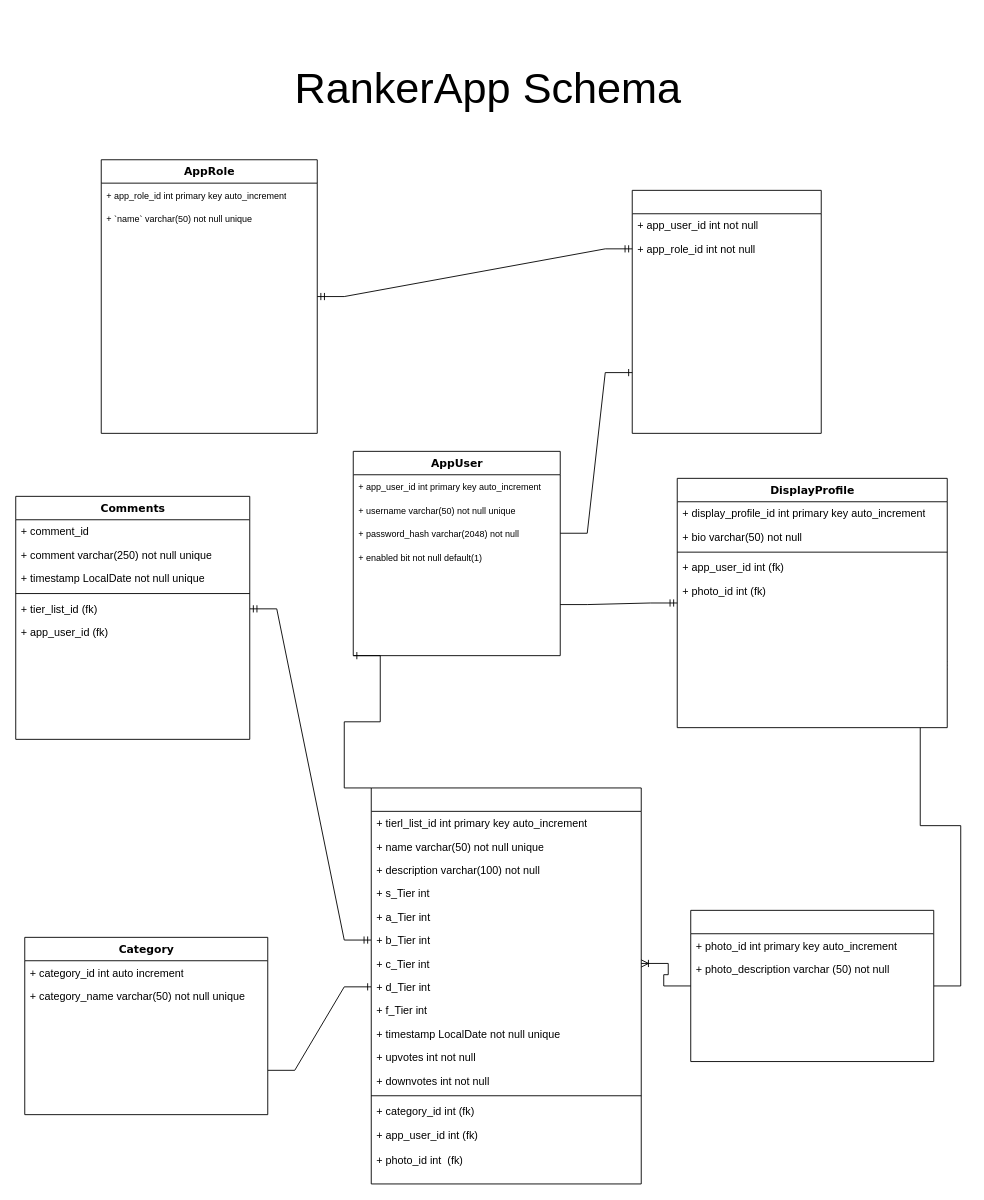
The diagram is 984 pixels wide and 1200 high, and some of its shapes have lost their labels. The box of each missing label's shape, as (x1, y1, x2, y2) in pixels:
AppUserRole: (631, 189, 821, 433)
PhotoTable: (690, 909, 934, 1062)
TierList: (370, 787, 641, 1184)
